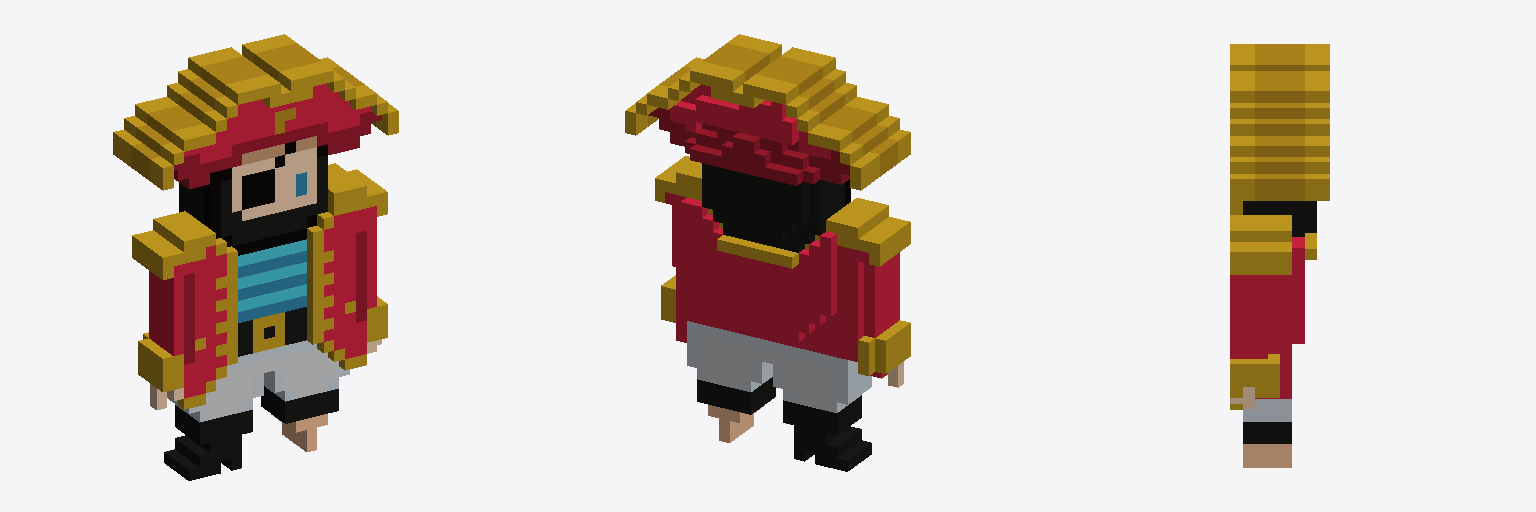
3 renders of one model, left to right at view 1: azimuth 30°, elevation 25°; view 2: azimuth 150°, elevation 25°; view 3: azimuth 270°, elevation 25°, orthographic.
Parts seen in each view (by area): view 1: object 1; view 2: object 1; view 3: object 1.
Boxes of the visible parts, x1,y1,x2,y2 form: object 1: [113, 34, 398, 480]; object 1: [625, 34, 910, 471]; object 1: [1230, 44, 1329, 467].
Size of the model in its own units: 2.2 by 3.4 by 0.8.
1 materials, 1 textured.